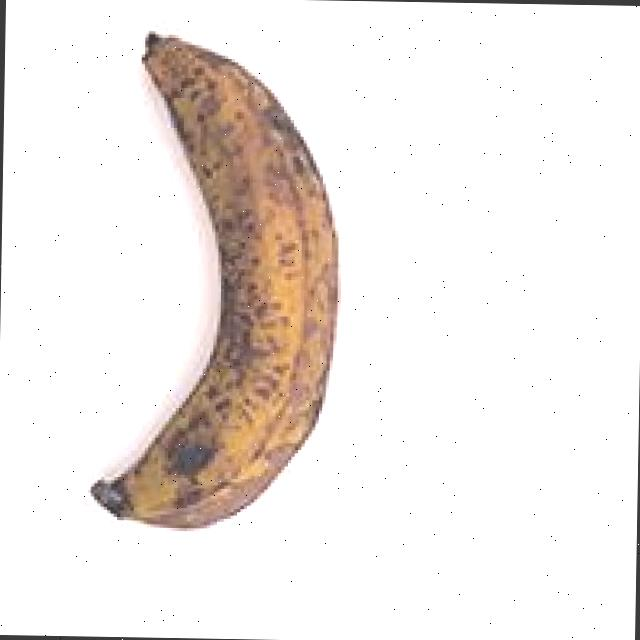Overripe: (46, 0, 399, 584)
